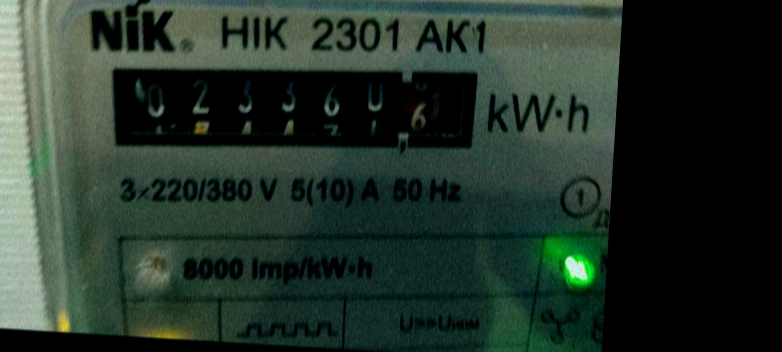0: (140, 77, 168, 120), (361, 75, 386, 114)
2: (185, 74, 213, 115)
3: (232, 74, 255, 116), (274, 75, 298, 114)
6: (316, 78, 344, 120), (407, 97, 430, 134)
screen: (84, 35, 492, 177)
